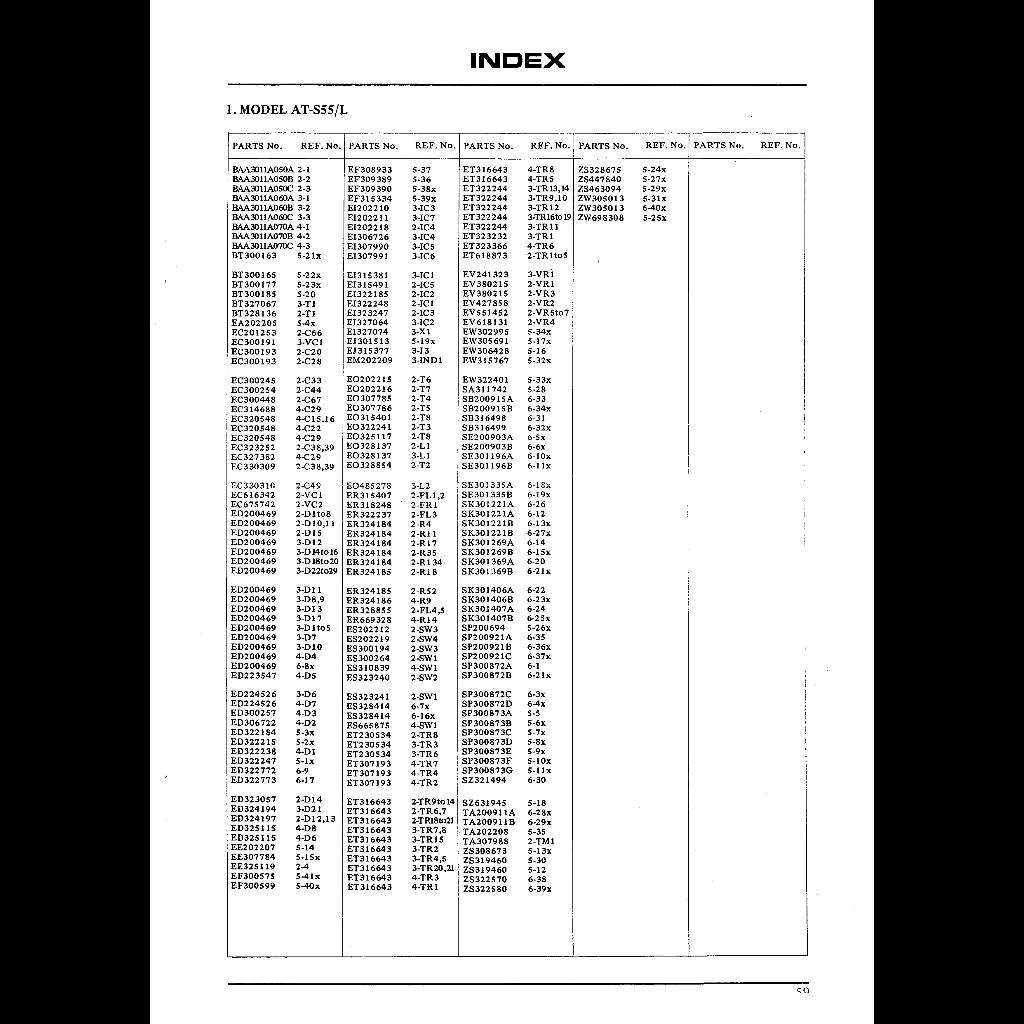Table: (221, 127, 813, 961)
